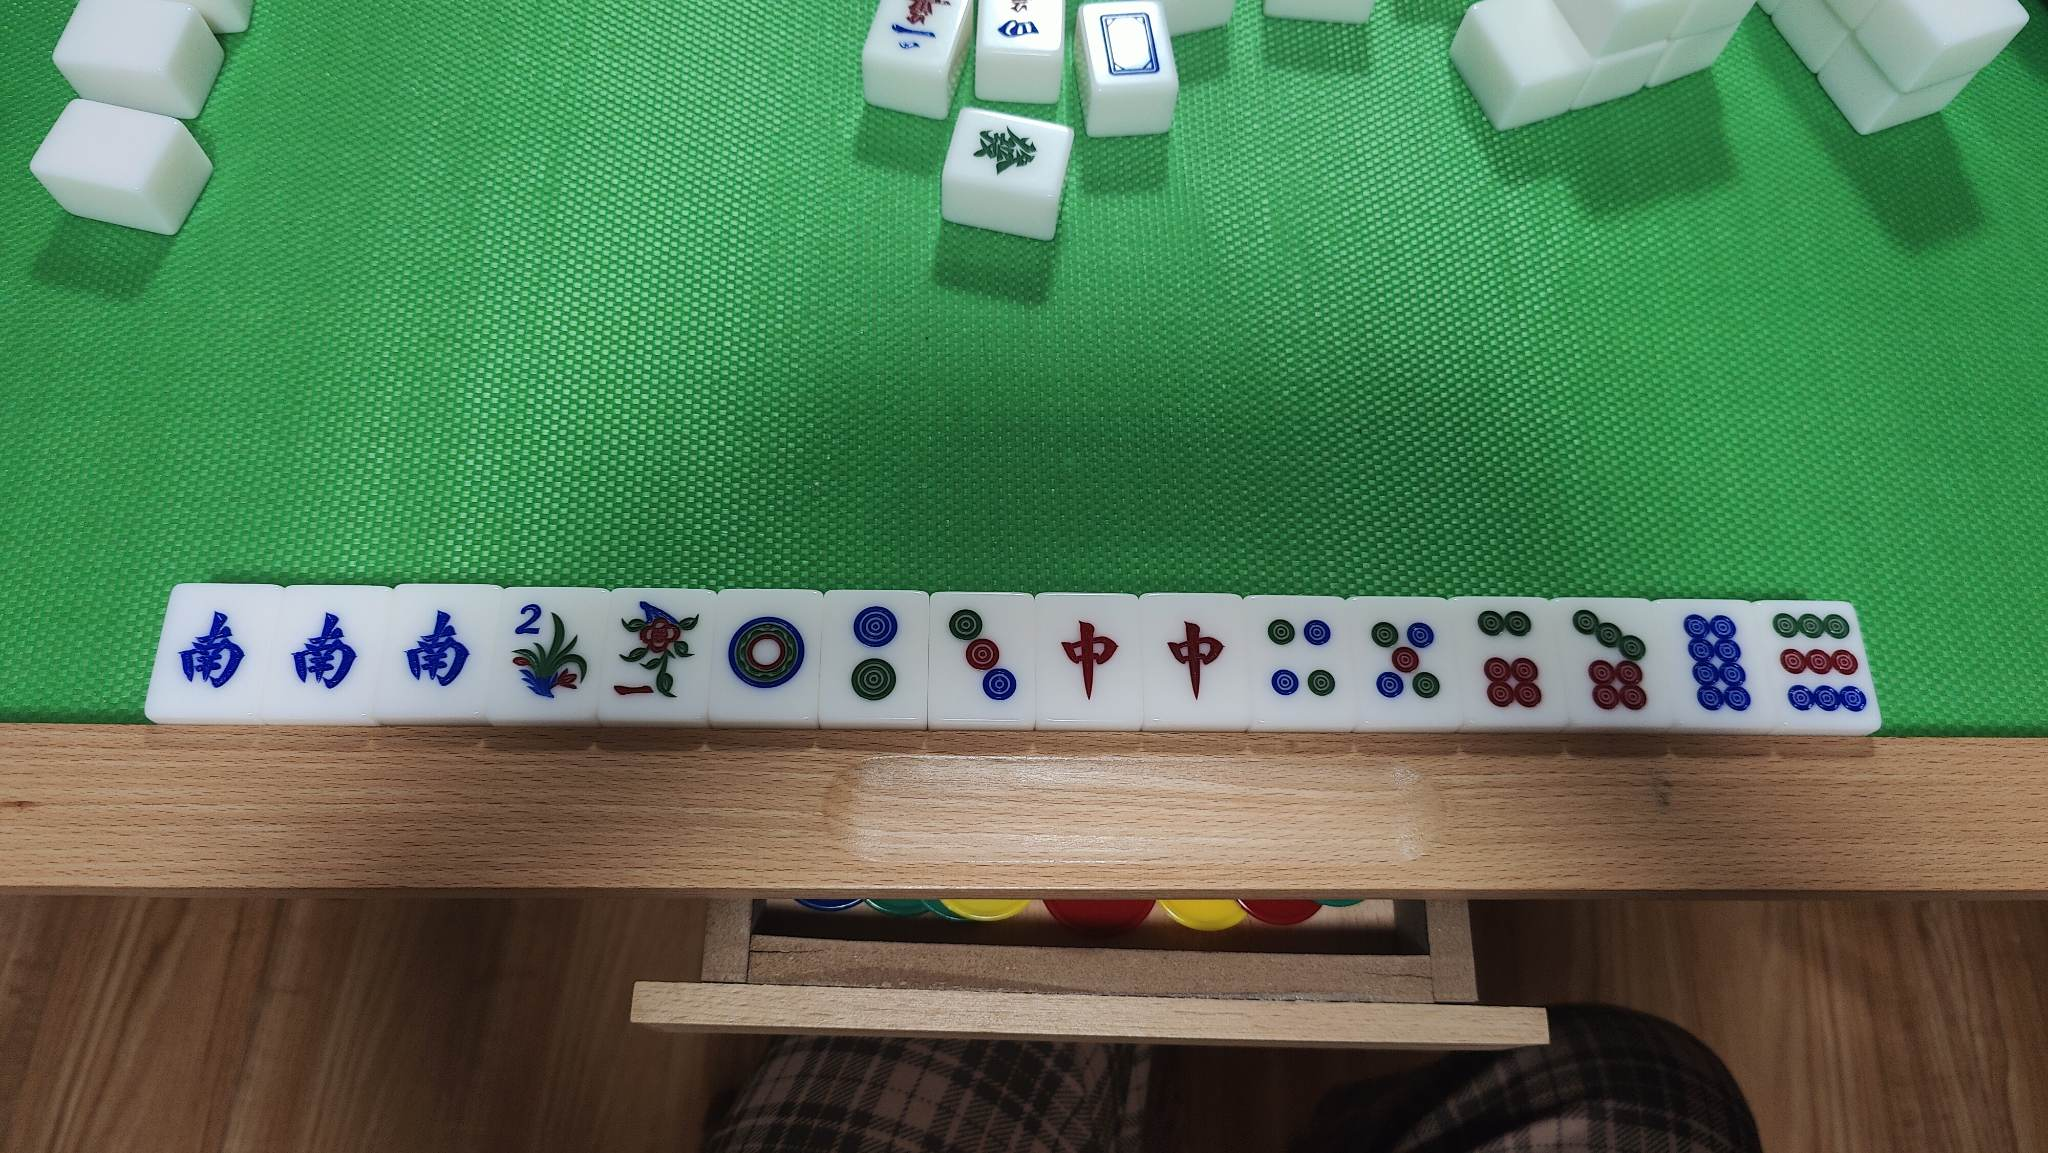bamboo-one: (722, 593, 816, 721)
bamboo-three: (935, 595, 1034, 726)
bamboo-two: (826, 593, 926, 721)
circle-eight: (1667, 603, 1760, 728)
circle-five: (1357, 600, 1457, 727)
circle-four: (1248, 599, 1355, 724)
circle-nine: (1769, 605, 1871, 727)
circle-seven: (1566, 602, 1654, 728)
circle-six: (1466, 600, 1556, 724)
flower-blue_two: (499, 592, 589, 717)
flower-red_one: (605, 589, 709, 717)
honor-red_dragon: (1039, 593, 1139, 726), (1145, 598, 1245, 727)
honor-south_wind: (163, 586, 260, 719), (277, 591, 371, 719), (392, 589, 482, 716)
